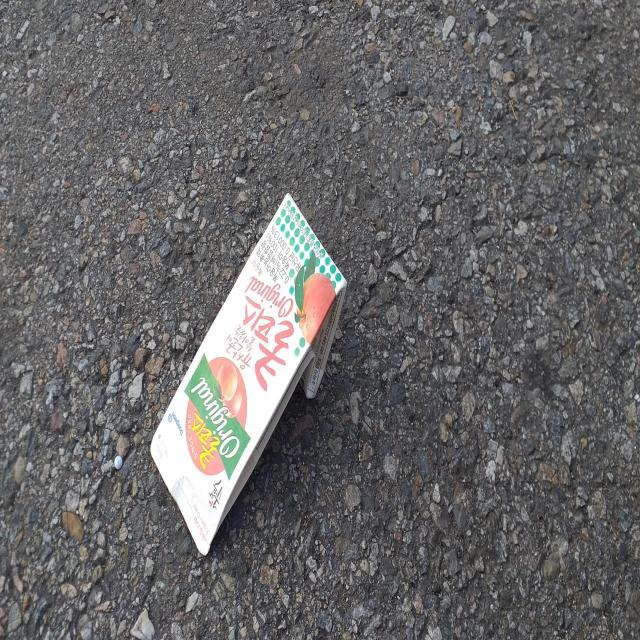paperpack: (150, 193, 347, 554)
